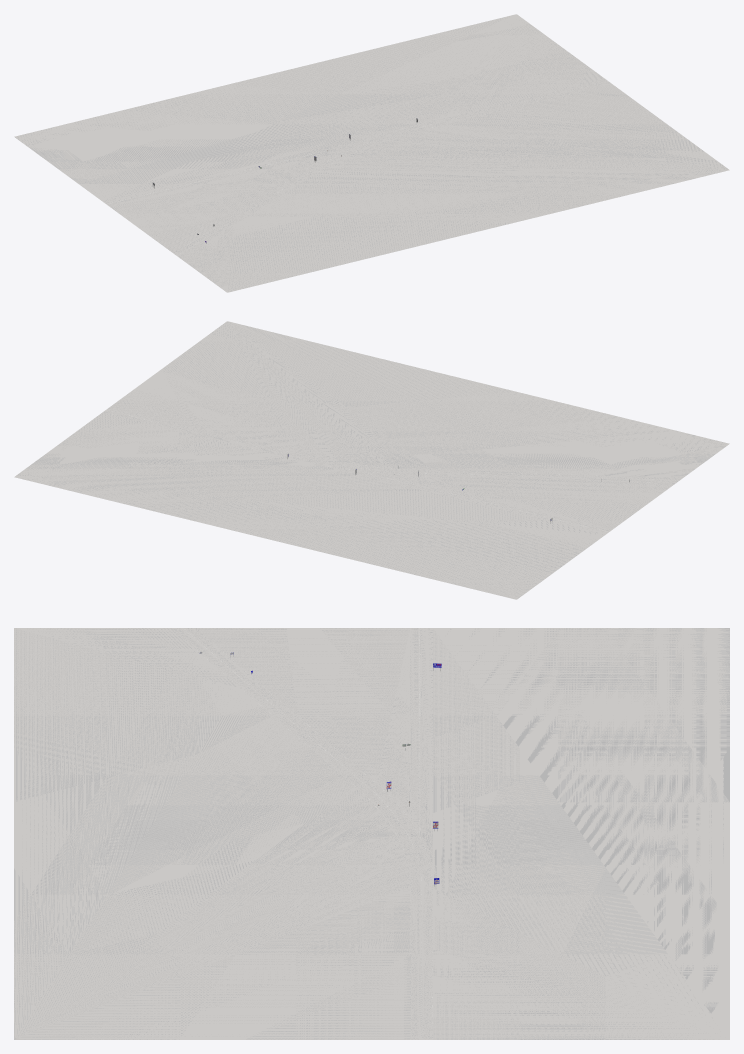
3 renders of one model, top to bottom at view 1: azimuth 30°, elevation 25°; view 2: azimuth 150°, elevation 25°; view 3: azimuth 270°, elevation 25°, orthographic. The views are drawn at different scales.
Parts seen in each view (by area): view 1: SketchUp (×4); view 2: SketchUp (×4); view 3: SketchUp (×4).
Boxes of the visible parts, x1,y1,x2,y2 form: SketchUp (×4): (14, 14, 729, 292); SketchUp (×4): (14, 321, 729, 599); SketchUp (×4): (14, 628, 729, 1039).
Bounding box in the file's own units: 11879 × 8727 × 139.
